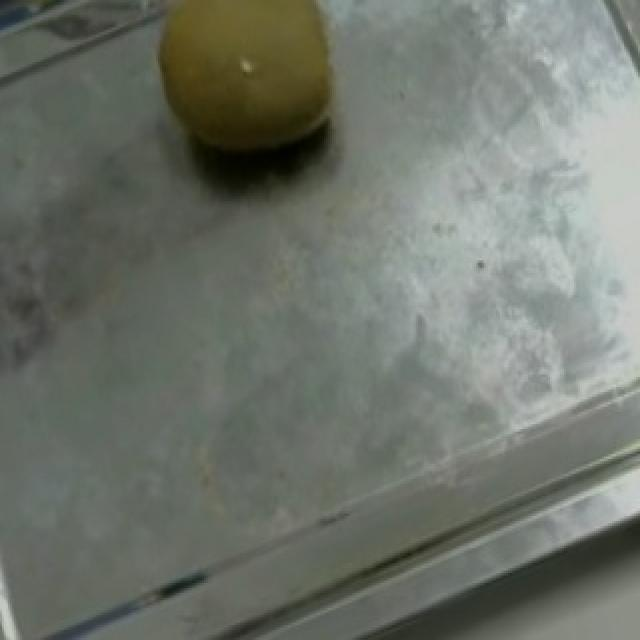Fruit: (114, 0, 372, 213)
